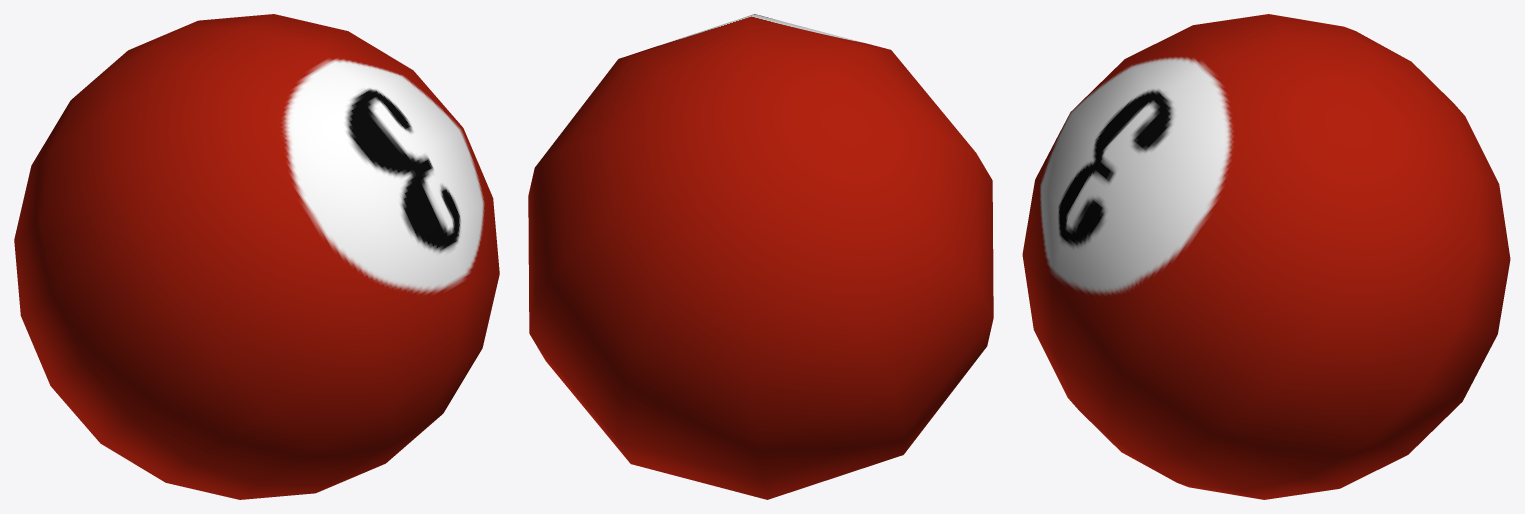
The model's file is Ball3.gltf.
The picture shows the model from 3 angles, left to right: view 1: azimuth 30°, elevation 25°; view 2: azimuth 150°, elevation 25°; view 3: azimuth 270°, elevation 25°; orthographic projection.
Parts seen in each view (by area): view 1: Ball3_Material_#35_0; view 2: Ball3_Material_#35_0; view 3: Ball3_Material_#35_0.
Boxes of the visible parts, x1,y1,x2,y2 form: Ball3_Material_#35_0: (14,14,499,499); Ball3_Material_#35_0: (528,14,993,499); Ball3_Material_#35_0: (1022,14,1510,499).
Bounding box in the file's own units: 5.76 × 5.76 × 5.79.
Materials: 1 (1 with a texture image).
